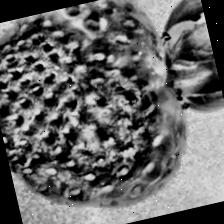Anthracnose Fruit Rot: (0, 0, 185, 215)
